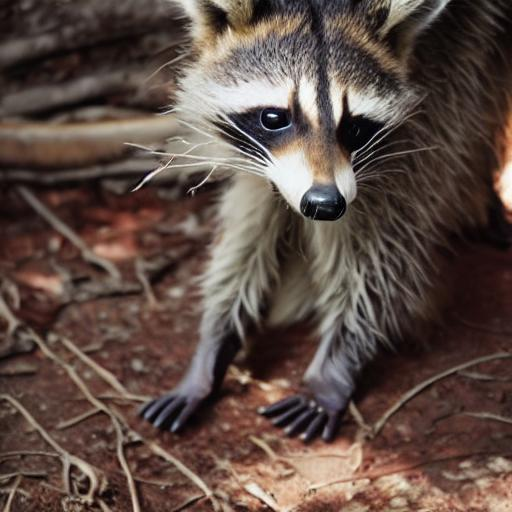raccoon: (156, 0, 512, 342)
